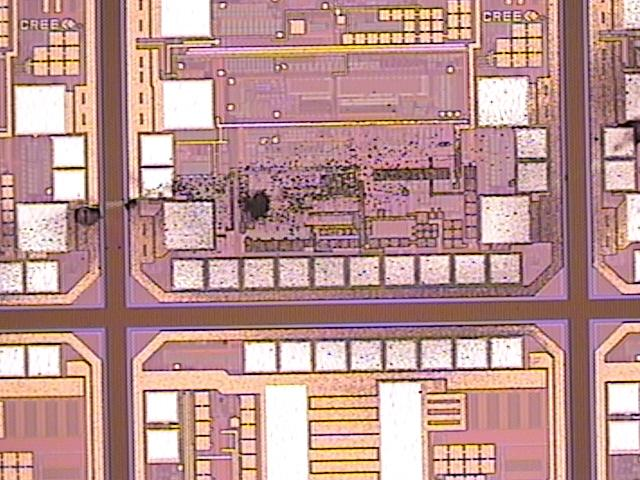PO CONTAMINATION: (1, 1, 640, 370)
